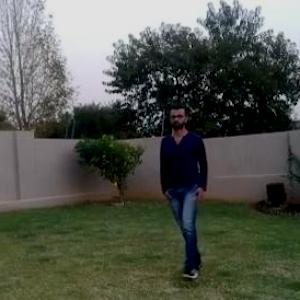follow: (163, 103, 207, 253)
